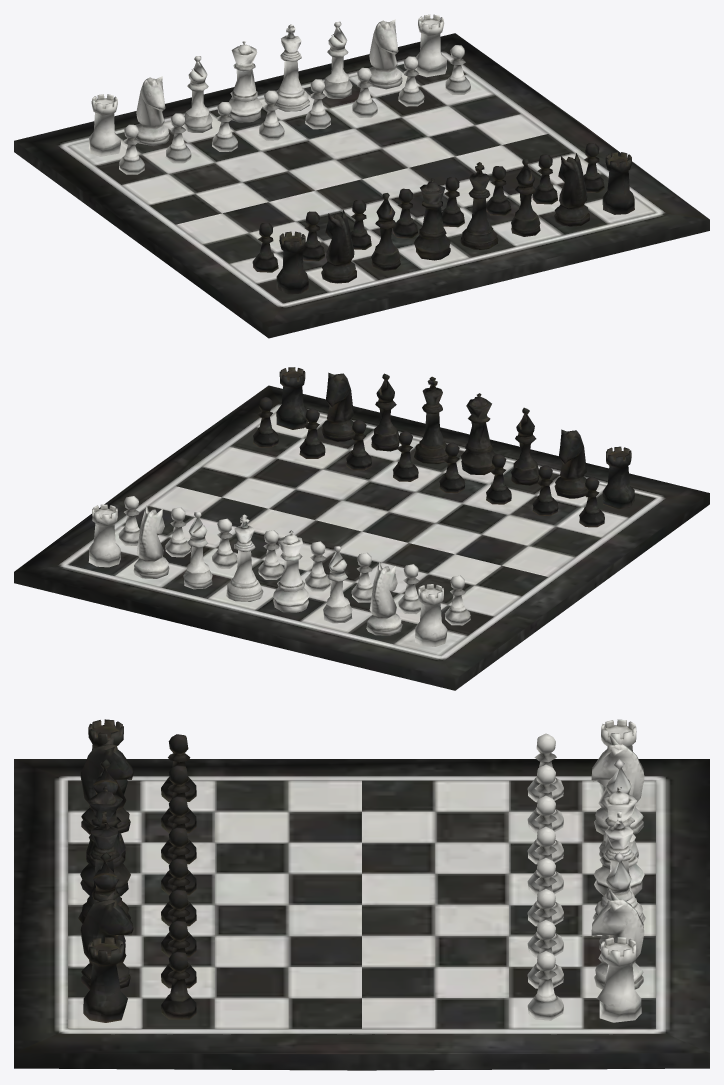
Rendered from chess_set.glb.
The picture shows the model from 3 angles, top to bottom: view 1: azimuth 30°, elevation 25°; view 2: azimuth 150°, elevation 25°; view 3: azimuth 270°, elevation 25°; orthographic projection. The views are drawn at different scales.
Parts seen in each view (by area): view 1: board, piece_rook_white_01, piece_rook_black_01, piece_king_black, piece_king_white; view 2: board, piece_rook_black_01, piece_rook_white_01, piece_king_white, piece_king_black; view 3: board, piece_rook_white_01, piece_rook_black_01, piece_king_white, piece_king_black.
Boxes of the visible parts, left/top/right/bottom form: board: left=14, top=33, right=709, bottom=338; piece_rook_white_01: left=88, top=14, right=470, bottom=174; piece_rook_black_01: left=252, top=143, right=634, bottom=294; piece_king_black: left=460, top=162, right=498, bottom=249; piece_king_white: left=275, top=24, right=309, bottom=111; board: left=14, top=385, right=709, bottom=690; piece_rook_black_01: left=253, top=367, right=634, bottom=527; piece_rook_white_01: left=88, top=496, right=470, bottom=646; piece_king_white: left=226, top=514, right=263, bottom=601; piece_king_black: left=414, top=376, right=448, bottom=463; board: left=14, top=759, right=709, bottom=1070; piece_rook_white_01: left=527, top=719, right=644, bottom=1022; piece_rook_black_01: left=80, top=719, right=196, bottom=1022; piece_king_white: left=593, top=811, right=645, bottom=922; piece_king_black: left=78, top=811, right=130, bottom=923.
Size of the model in its own units: 0.5507 by 0.1103 by 0.5482.
3 materials, 3 textured.
